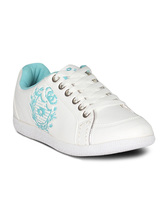shoes: (13, 61, 157, 157)
